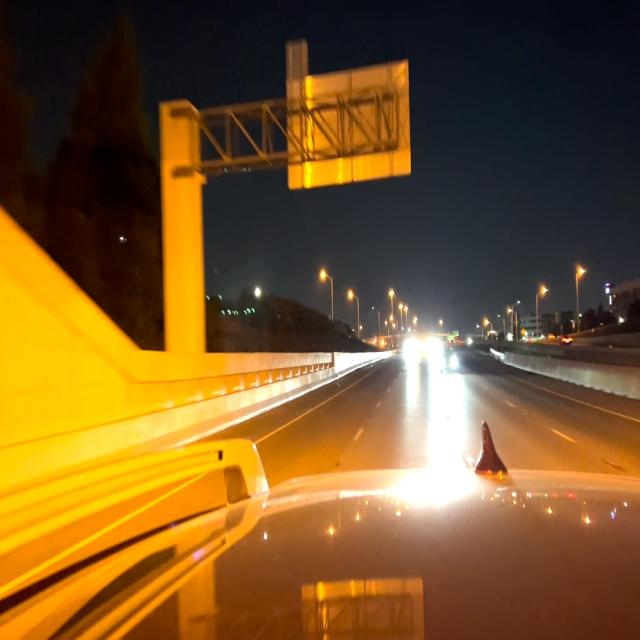back-of-sign: (288, 79, 411, 185), (286, 39, 306, 76)
